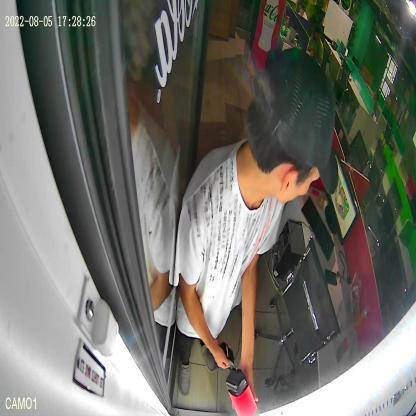red: (225, 367, 260, 416)
